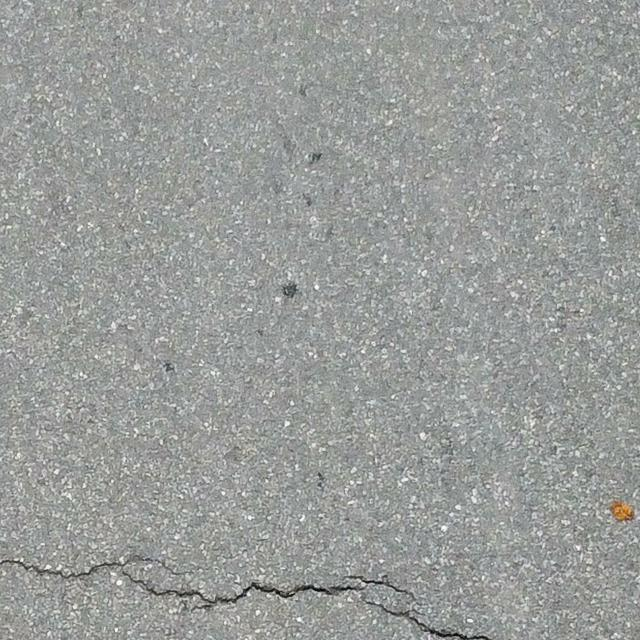TransverseCrack: (1, 556, 488, 640)
